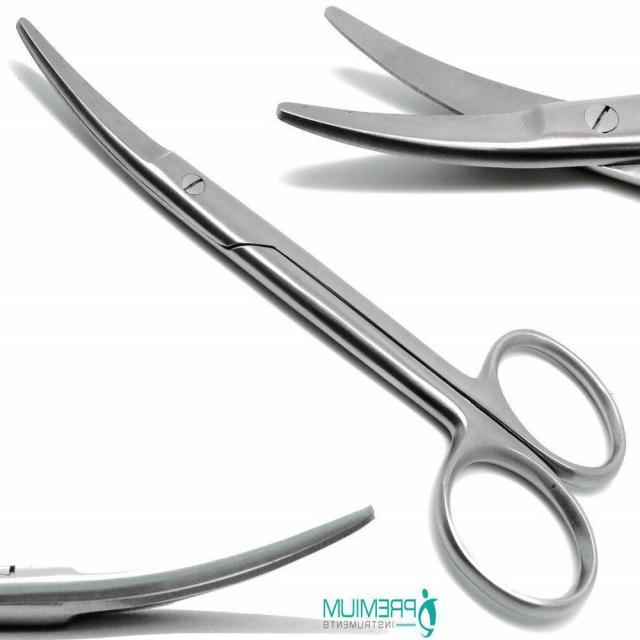Mayo_metz: (14, 11, 625, 638), (272, 4, 636, 208), (0, 497, 379, 640)
